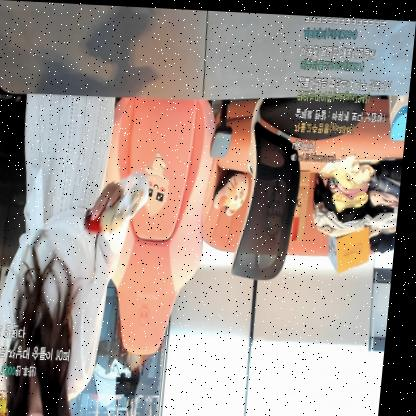donation: (0, 321, 82, 416)
streamer: (0, 92, 160, 416)
